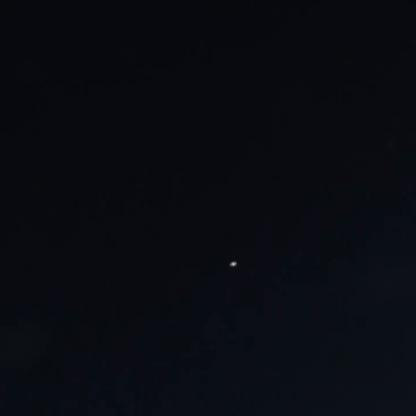ball: (225, 257, 240, 272)
